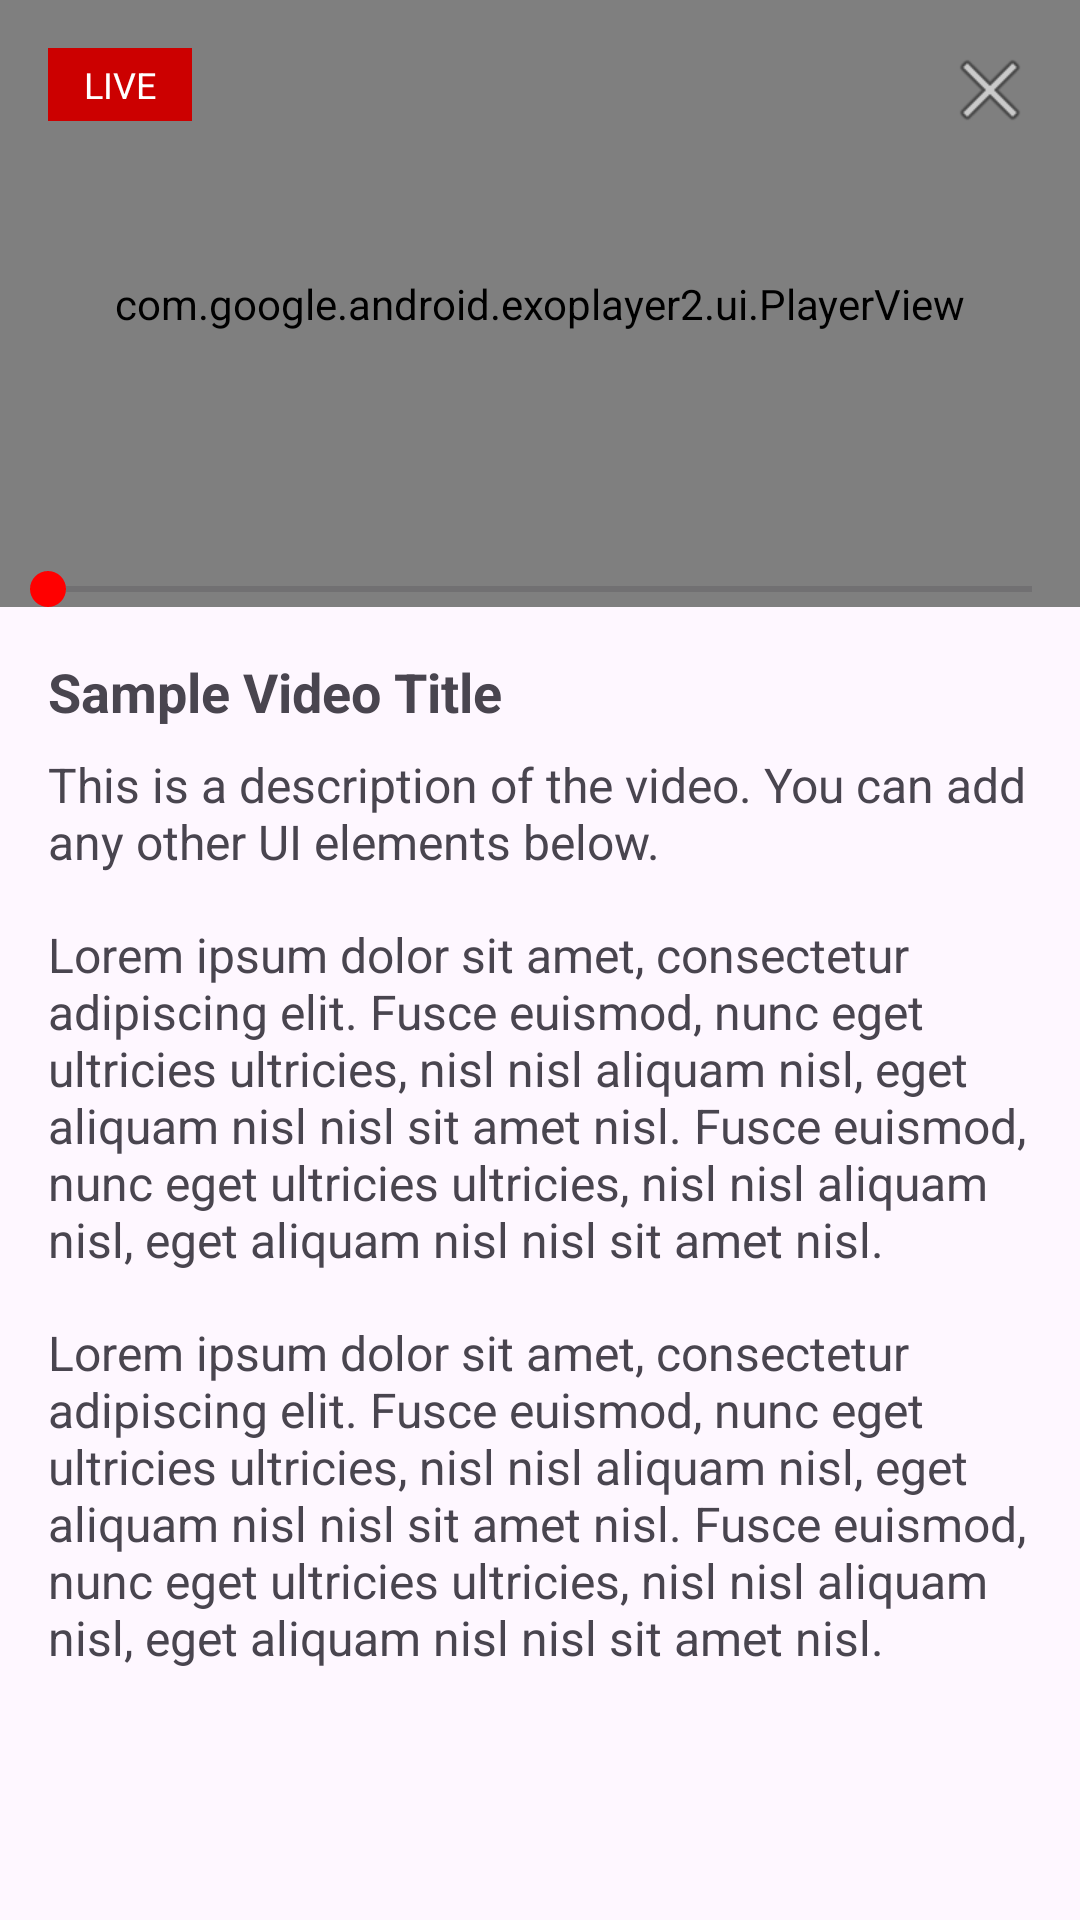

Icons on this 1080px x 1920px Android screen, each with its box as (x1, y1, x2, y2):
Close: (960, 60, 1020, 120)
